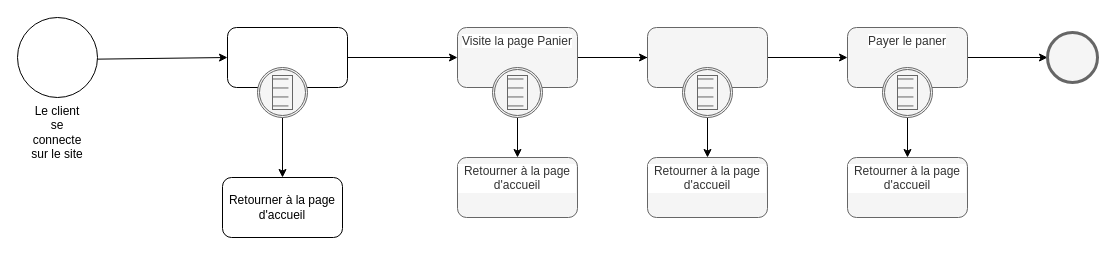
Some shapes in this 1115 by 255 pixel diagram are drawn without their labels. The centre of each missing label's shape, as x and y in pixels:
"Choisir des articles" belongs at [287,57].
"Visite la page Valider le panier" belongs at [707,57].
